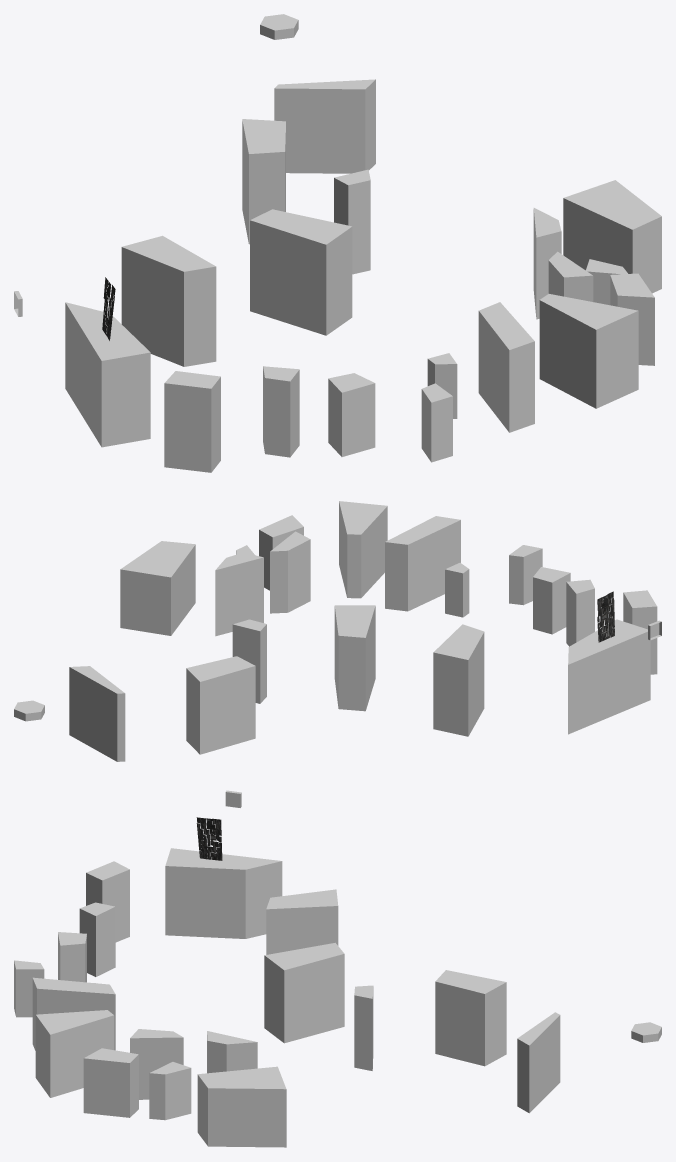
Rendered from cave2_objects.FBX.
The picture shows the model from 3 angles, top to bottom: view 1: azimuth 30°, elevation 25°; view 2: azimuth 150°, elevation 25°; view 3: azimuth 270°, elevation 25°; orthographic projection. The views are drawn at different scales.
Visible parts, largest first — view 1: cave2_platform_04, cave2_platform_05, cave2_platform_06, cave2_platform_13, cave2_platform_01, cave2_platform_18, cave2_platform_12, cave2_platform_07, cave2_platform_02, cave2_platform_09, cave2_platform_08, cave2_platform_03 (+7 smaller); view 2: cave2_platform_06, cave2_platform_18, cave2_platform_02, cave2_platform_12, cave2_platform_05, cave2_platform_01, cave2_platform_04, cave2_platform_13, cave2_platform_17, cave2_platform_14, cave2_platform_09, cave2_platform_03 (+6 smaller); view 3: cave2_platform_06, cave2_platform_04, cave2_platform_18, cave2_platform_02, cave2_platform_13, cave2_platform_05, cave2_platform_15, cave2_platform_01, cave2_platform_12, cave2_platform_16, cave2_platform_07, cave2_platform_08 (+6 smaller).
Part boxes in pixels (x1=…): cave2_platform_04: x1=250, y1=209, x2=352, y2=335; cave2_platform_05: x1=121, y1=235, x2=216, y2=366; cave2_platform_06: x1=65, y1=302, x2=150, y2=447; cave2_platform_13: x1=539, y1=294, x2=638, y2=408; cave2_platform_01: x1=274, y1=79, x2=375, y2=173; cave2_platform_18: x1=563, y1=180, x2=661, y2=293; cave2_platform_12: x1=478, y1=302, x2=534, y2=432; cave2_platform_07: x1=164, y1=371, x2=220, y2=472; cave2_platform_02: x1=242, y1=119, x2=285, y2=244; cave2_platform_09: x1=328, y1=373, x2=375, y2=456; cave2_platform_08: x1=263, y1=366, x2=299, y2=457; cave2_platform_03: x1=334, y1=169, x2=370, y2=274; cave2_platform_06: x1=568, y1=619, x2=650, y2=734; cave2_platform_18: x1=120, y1=541, x2=195, y2=635; cave2_platform_02: x1=186, y1=656, x2=255, y2=754; cave2_platform_12: x1=385, y1=516, x2=460, y2=611; cave2_platform_05: x1=433, y1=624, x2=484, y2=736; cave2_platform_01: x1=69, y1=666, x2=125, y2=761; cave2_platform_04: x1=334, y1=605, x2=375, y2=711; cave2_platform_13: x1=339, y1=501, x2=387, y2=598; cave2_platform_17: x1=215, y1=552, x2=263, y2=636; cave2_platform_14: x1=270, y1=531, x2=310, y2=613; cave2_platform_09: x1=533, y1=567, x2=570, y2=634; cave2_platform_03: x1=232, y1=619, x2=266, y2=703; cave2_platform_06: x1=165, y1=848, x2=282, y2=938; cave2_platform_04: x1=264, y1=942, x2=344, y2=1043; cave2_platform_18: x1=197, y1=1066, x2=286, y2=1147; cave2_platform_02: x1=435, y1=970, x2=506, y2=1066; cave2_platform_13: x1=35, y1=1010, x2=114, y2=1097; cave2_platform_05: x1=266, y1=889, x2=338, y2=954; cave2_platform_15: x1=83, y1=1048, x2=138, y2=1117; cave2_platform_01: x1=517, y1=1012, x2=560, y2=1113; cave2_platform_12: x1=32, y1=977, x2=115, y2=1050; cave2_platform_16: x1=149, y1=1062, x2=191, y2=1120; cave2_platform_07: x1=86, y1=861, x2=129, y2=942; cave2_platform_08: x1=79, y1=902, x2=115, y2=976.
Size of the model in its own units: 7193 by 1525 by 7929.
